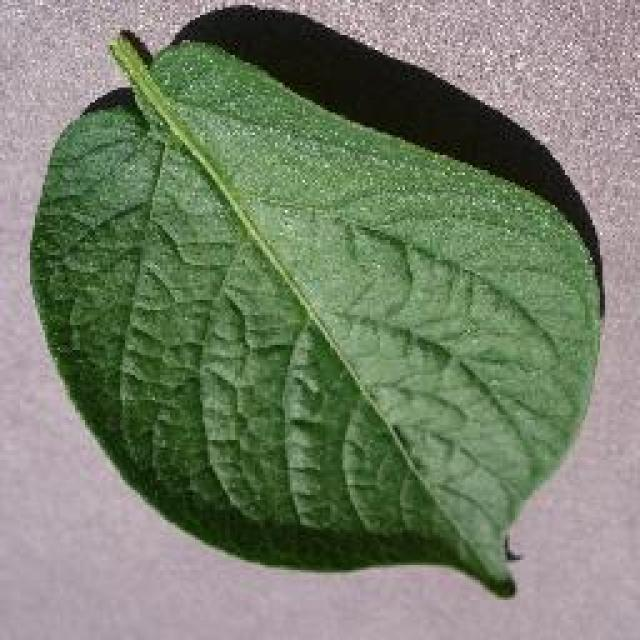Potato___healthy: (29, 30, 602, 599)
